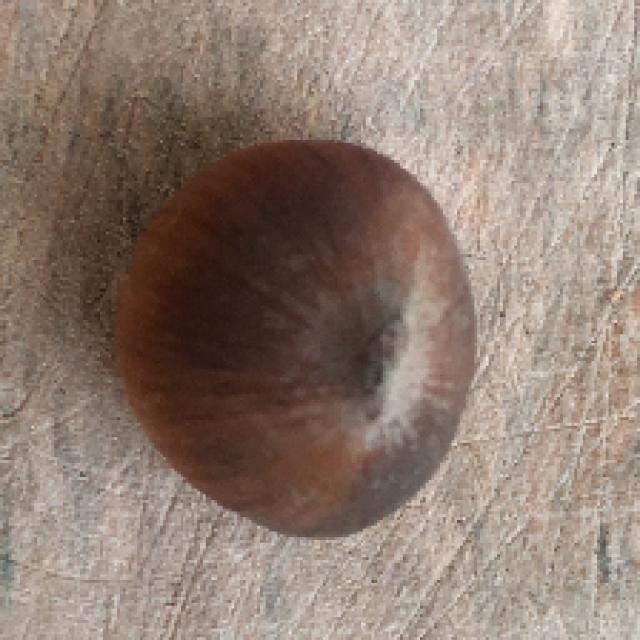qualityHazelnut: (112, 137, 481, 550)
